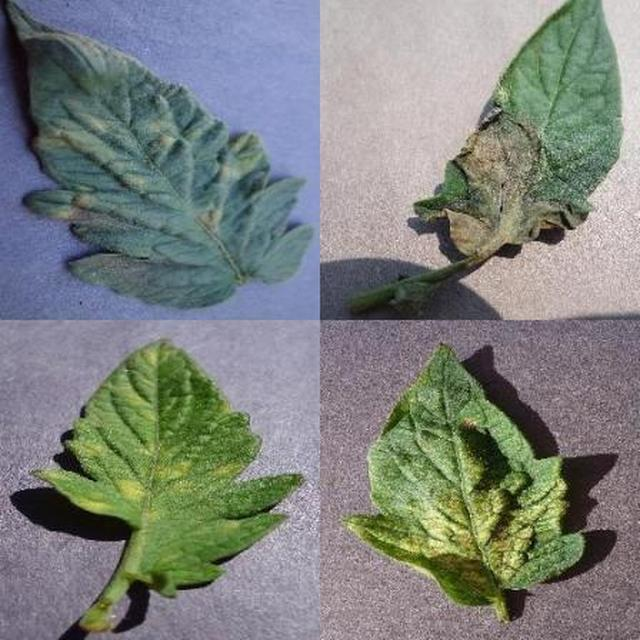Leaf Mold: (222, 190, 640, 640)
